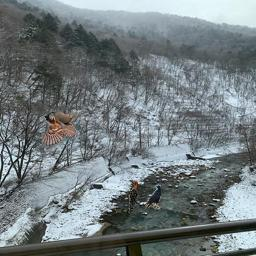Crow: (145, 184, 161, 209)
Sparrow: (41, 110, 81, 147)
Woodpecker: (125, 180, 138, 217)
